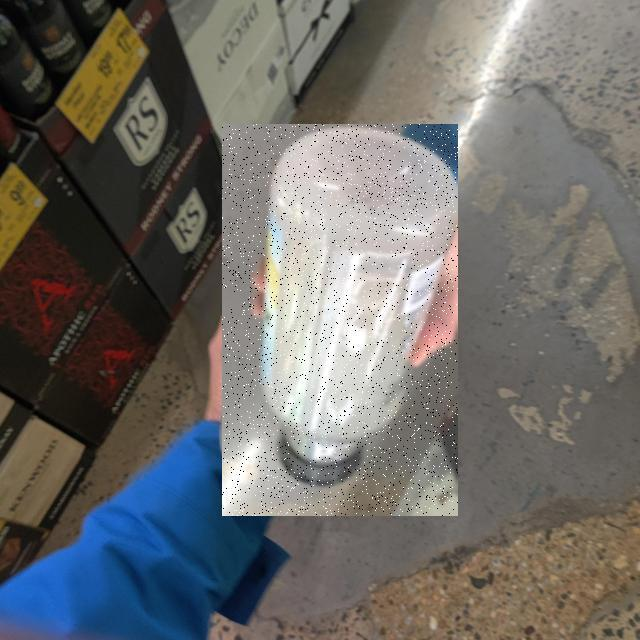Juice: (223, 124, 459, 516)
